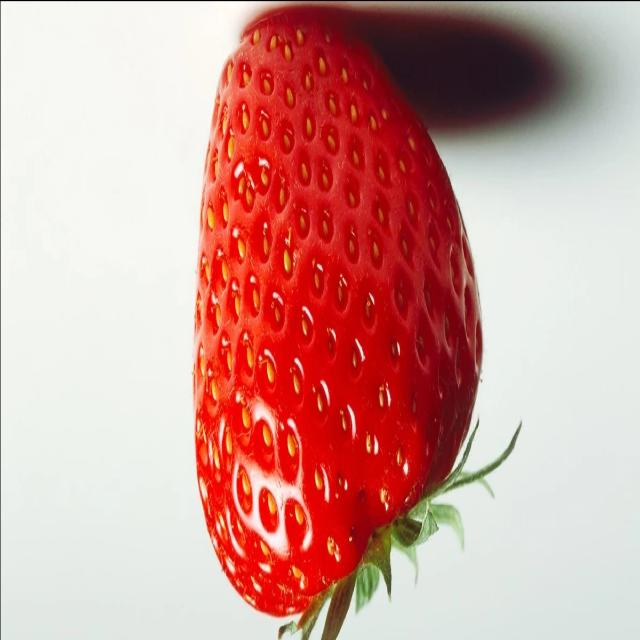strawberry: (177, 0, 512, 632)
